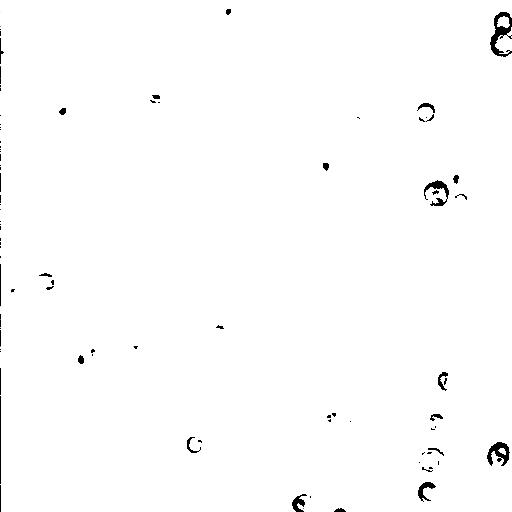micro-algae: (345, 15, 445, 113), (45, 433, 120, 506), (370, 11, 417, 59), (182, 261, 229, 307), (180, 359, 217, 393), (333, 410, 368, 441), (446, 159, 476, 193), (210, 0, 245, 28), (45, 91, 75, 123), (301, 85, 332, 115), (121, 335, 151, 364), (422, 179, 451, 208), (419, 445, 450, 471), (187, 309, 218, 334), (489, 23, 511, 58), (486, 439, 511, 469), (2, 279, 29, 305), (67, 347, 93, 374), (347, 107, 372, 134), (417, 480, 443, 505), (315, 152, 337, 179), (289, 491, 315, 511), (2, 37, 22, 61), (185, 433, 206, 455), (435, 370, 457, 391), (88, 40, 107, 63), (493, 9, 511, 33), (416, 101, 435, 123), (35, 273, 59, 289), (427, 411, 446, 430), (451, 191, 469, 210), (331, 505, 349, 511)
